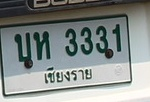txt21: (13, 31, 32, 63)
txt36: (32, 30, 52, 61)
